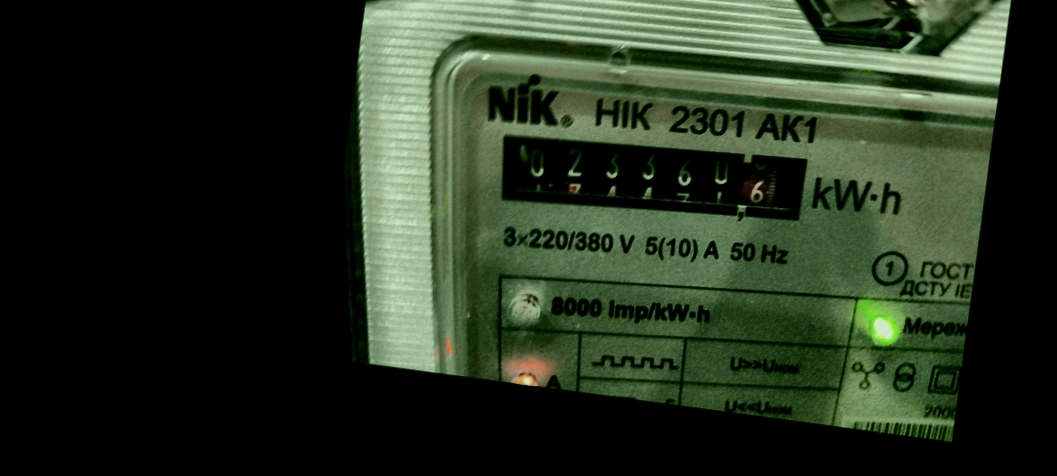0: (521, 144, 548, 181), (705, 155, 731, 188)
2: (561, 145, 585, 180)
3: (635, 147, 658, 183), (597, 148, 620, 182)
6: (669, 154, 695, 190), (742, 173, 768, 208)
screen: (476, 108, 823, 247)
